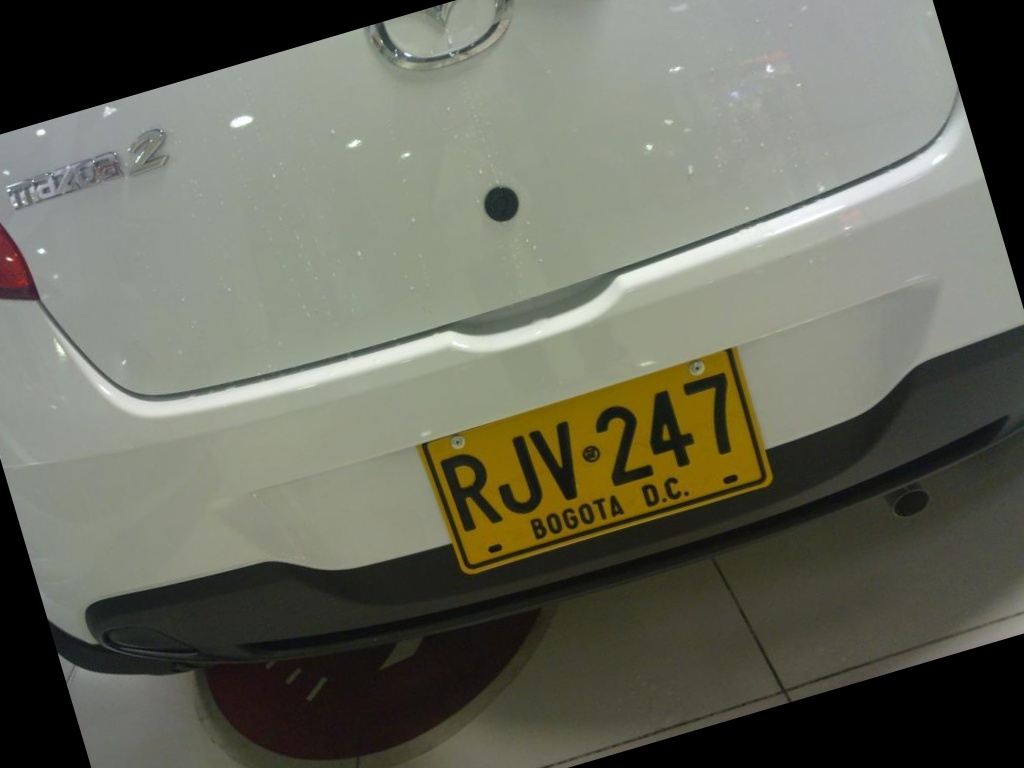placas: (409, 337, 782, 582)
